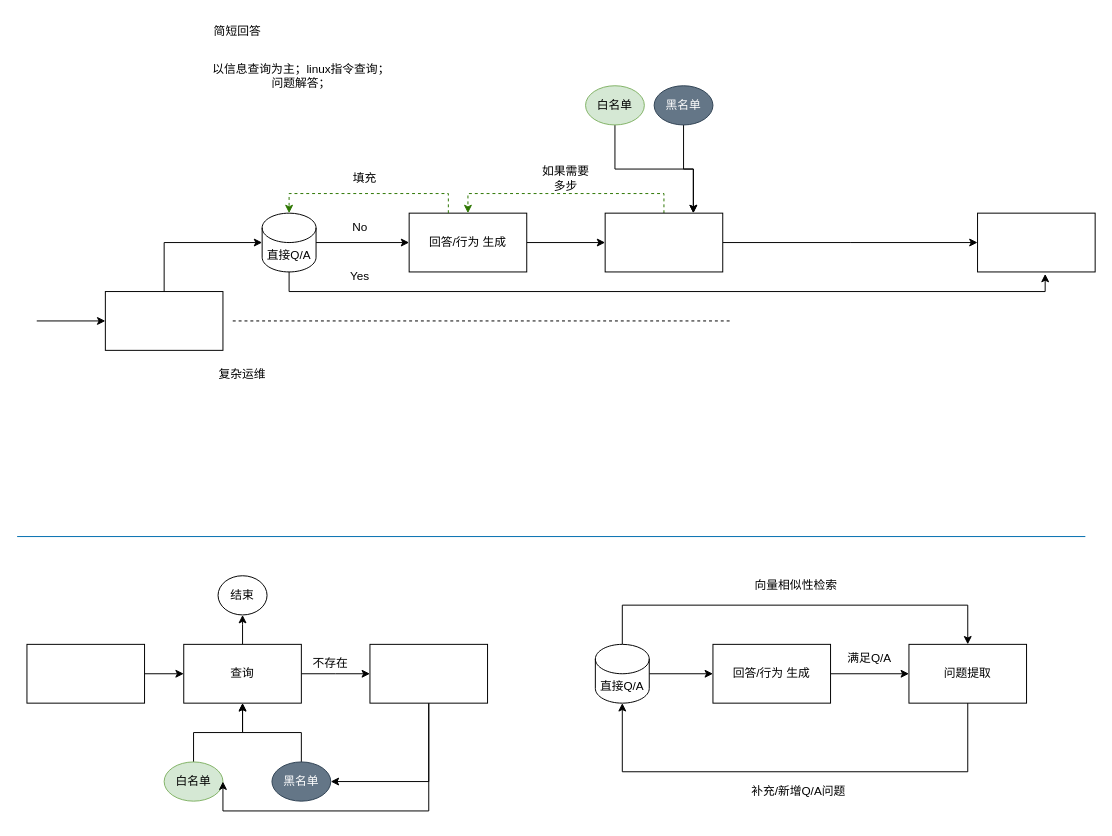
The diagram is 1112 pixels wide and 836 high, and some of its shapes have lost their labels. The centre of each missing label's shape, as x and y in pixels:
"大模型分析指令归类" goes at [428,673].
"意图识别" goes at [163,320].
"指令执行" goes at [85,673].
"结果输出" goes at [1036,242].
"行为执行" goes at [663,242].
